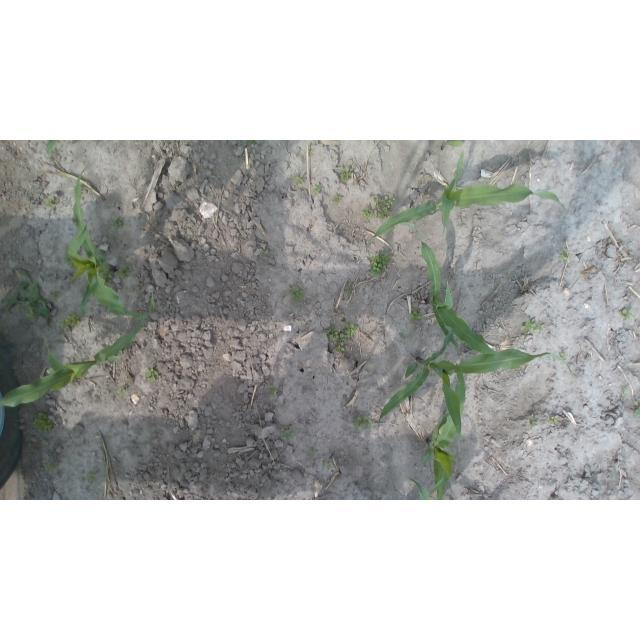Maize: (367, 150, 571, 242), (380, 329, 578, 423), (397, 219, 503, 355), (65, 172, 156, 320), (0, 321, 144, 407), (426, 362, 467, 500), (407, 476, 438, 501), (46, 141, 61, 158), (442, 141, 461, 150)
Weeds: (6, 270, 50, 321), (372, 194, 396, 220), (369, 252, 392, 276), (32, 411, 52, 432), (521, 318, 547, 333), (351, 415, 373, 430), (60, 313, 81, 328), (343, 322, 359, 338), (409, 307, 424, 323), (146, 365, 159, 383), (290, 286, 304, 302), (280, 426, 296, 440), (340, 167, 353, 184), (44, 198, 58, 213), (621, 307, 636, 321), (43, 459, 59, 472), (326, 325, 339, 341), (335, 333, 346, 351), (111, 215, 125, 229), (120, 266, 133, 279), (85, 471, 97, 484), (101, 270, 115, 281), (360, 206, 372, 218), (548, 414, 560, 426), (313, 183, 324, 196), (558, 249, 569, 261), (50, 291, 63, 301), (294, 174, 304, 187), (529, 414, 538, 427), (333, 193, 344, 203), (634, 401, 640, 418), (559, 351, 569, 361), (324, 459, 334, 469), (307, 446, 317, 456), (268, 386, 279, 395), (343, 284, 353, 293), (117, 387, 128, 394), (398, 332, 407, 340), (279, 292, 286, 301), (623, 390, 630, 397), (259, 251, 265, 258), (245, 140, 254, 144), (238, 235, 243, 242), (95, 397, 100, 403)
